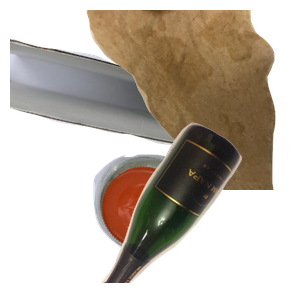cardboard: (10, 35, 250, 188)
glass: (87, 120, 300, 300)
plastic: (91, 152, 281, 300)
trash: (84, 10, 300, 190)
